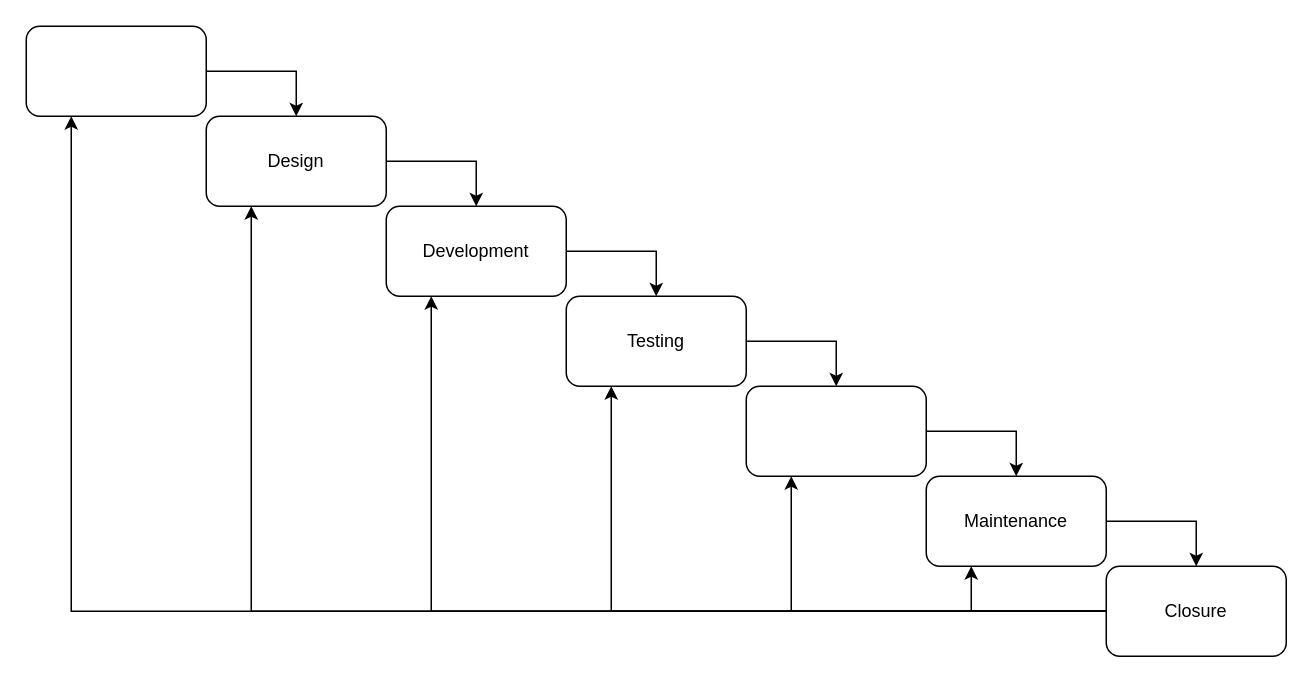
Some shapes in this 1313 by 683 pixel diagram are drawn without their labels. Here are the shapes that lost their labels. From the top down, the centre of each, then its label:
At point 115,70: "Initiation".
At point 835,430: "Implementation".
